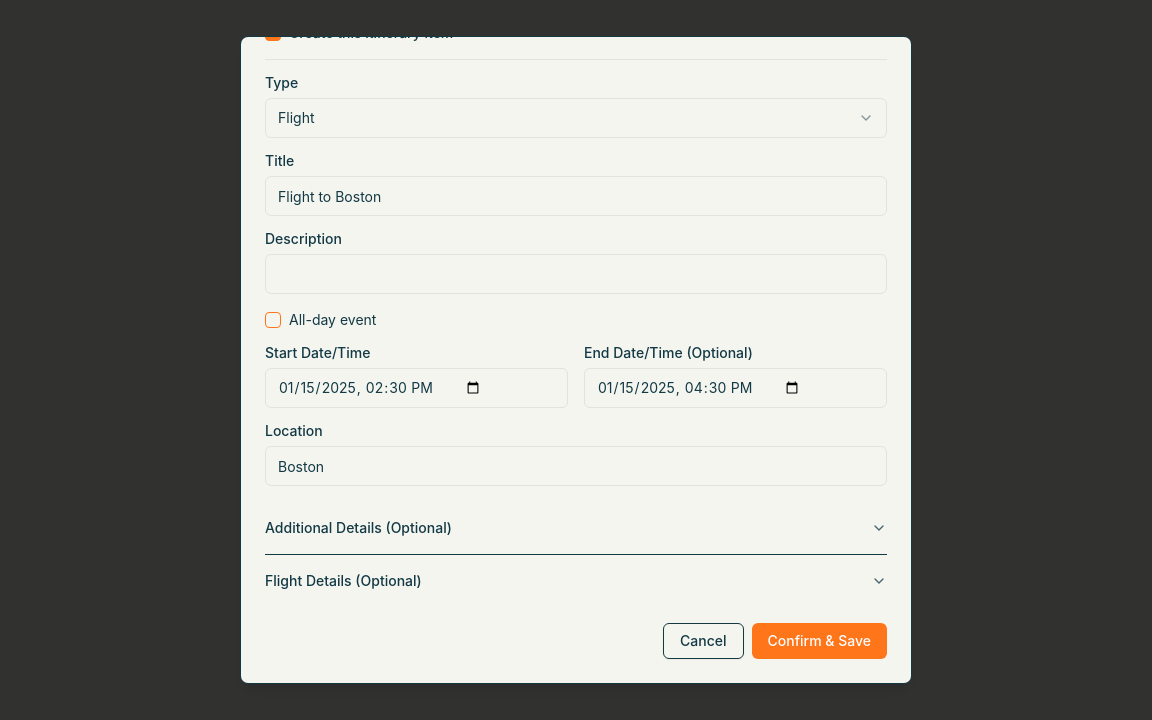
Test: ParsedItemModal - Itinerary Metadata › Type-Specific Metadata › shows TransportMetadataFields for flight type
The width and height of the screenshot is (1152, 720).
(page scrolled)
Click the button "Flight Details (Optional)" at (343, 580), box [265,555,887,607]
(page scrolled)
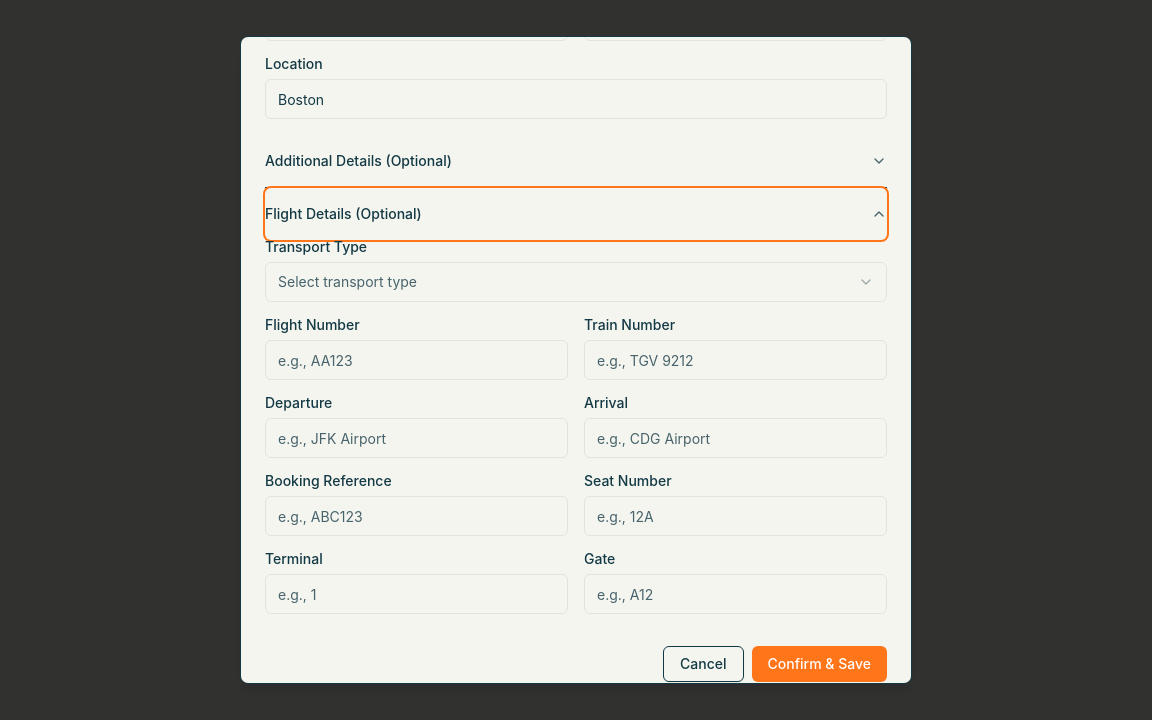
Now the dropdown labelled "Select transport type" is shown, box [265,262,887,302]
Now the field labelled "Flight Number" is shown, box [265,340,568,380]
